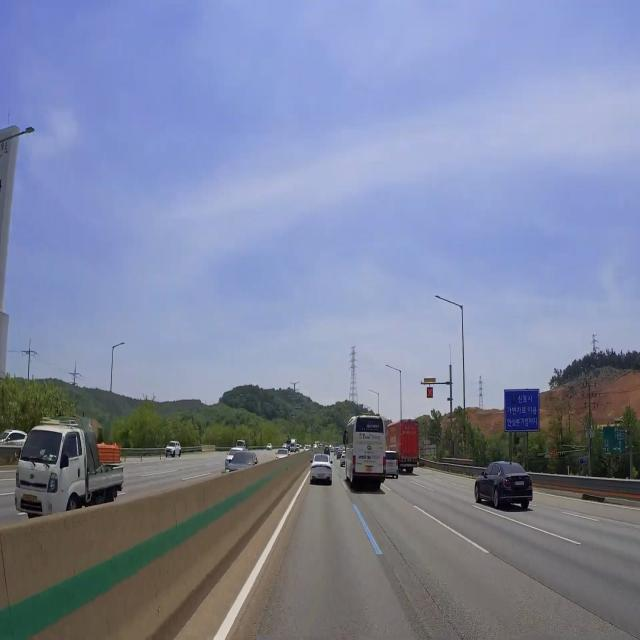car: (20, 488, 40, 510), (512, 476, 527, 491), (364, 461, 375, 476), (316, 468, 325, 485), (407, 457, 413, 462), (389, 465, 393, 469)
